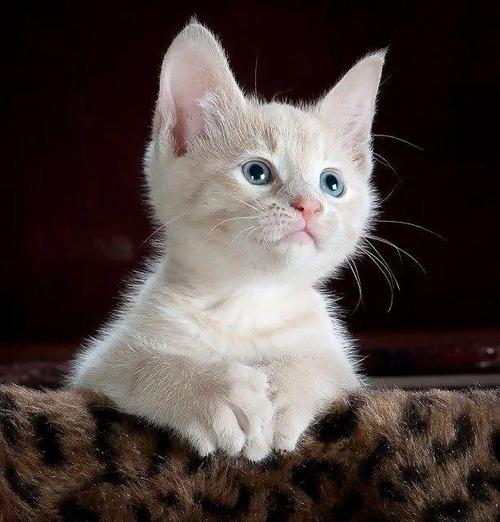cat: (136, 27, 391, 311)
